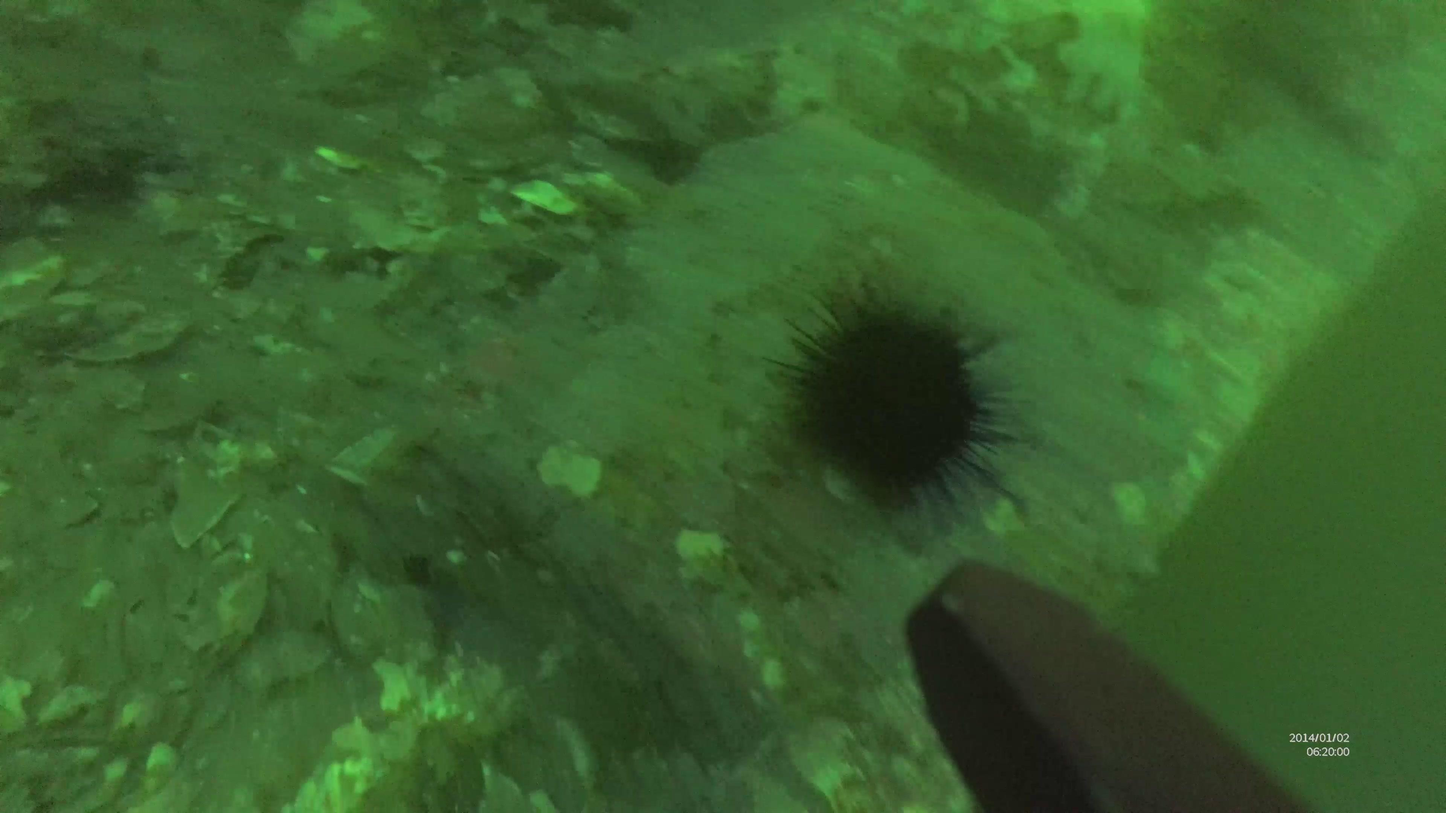starfish: (775, 275, 1006, 516)
